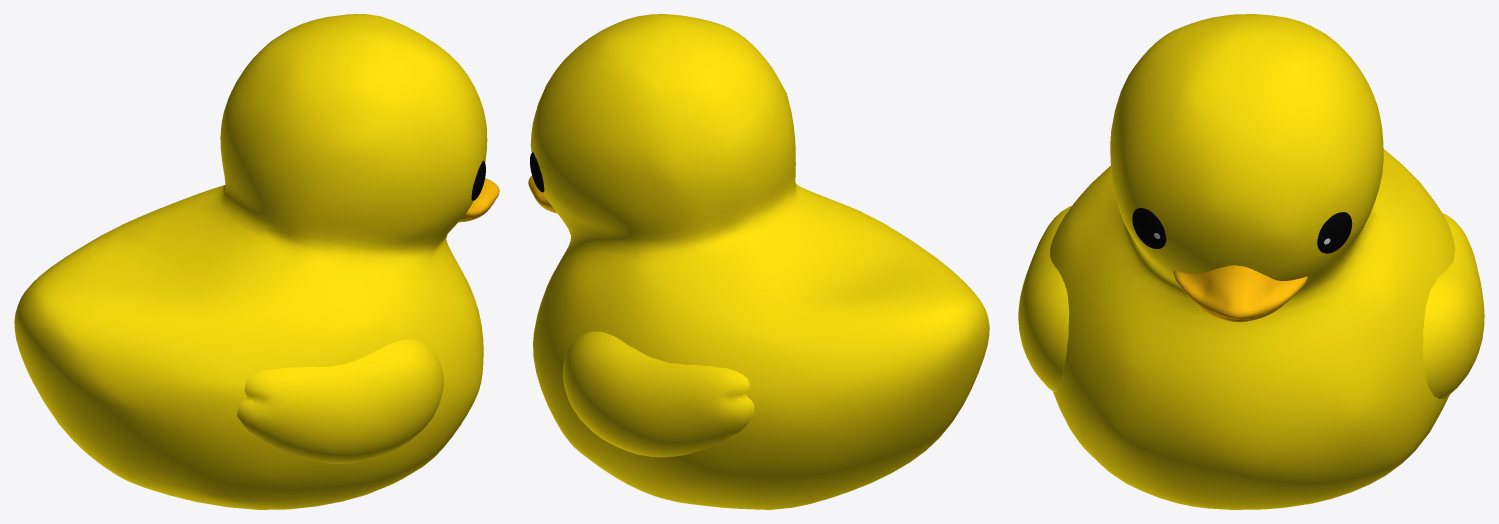
File: duck.glb
3 views of the same model, side by side, from view 1: azimuth 30°, elevation 25°; view 2: azimuth 150°, elevation 25°; view 3: azimuth 270°, elevation 25° (orthographic). The views are drawn at different scales.
Parts seen in each view (by area): view 1: group9; view 2: group9; view 3: group9.
Part boxes in pixels (<box>): group9: <box>14,14,499,509</box>; group9: <box>528,14,989,509</box>; group9: <box>1018,14,1484,509</box>.
Bounding box in the file's own units: 9.46 × 8.54 × 7.5.
Materials: 3 (1 with a texture image).
